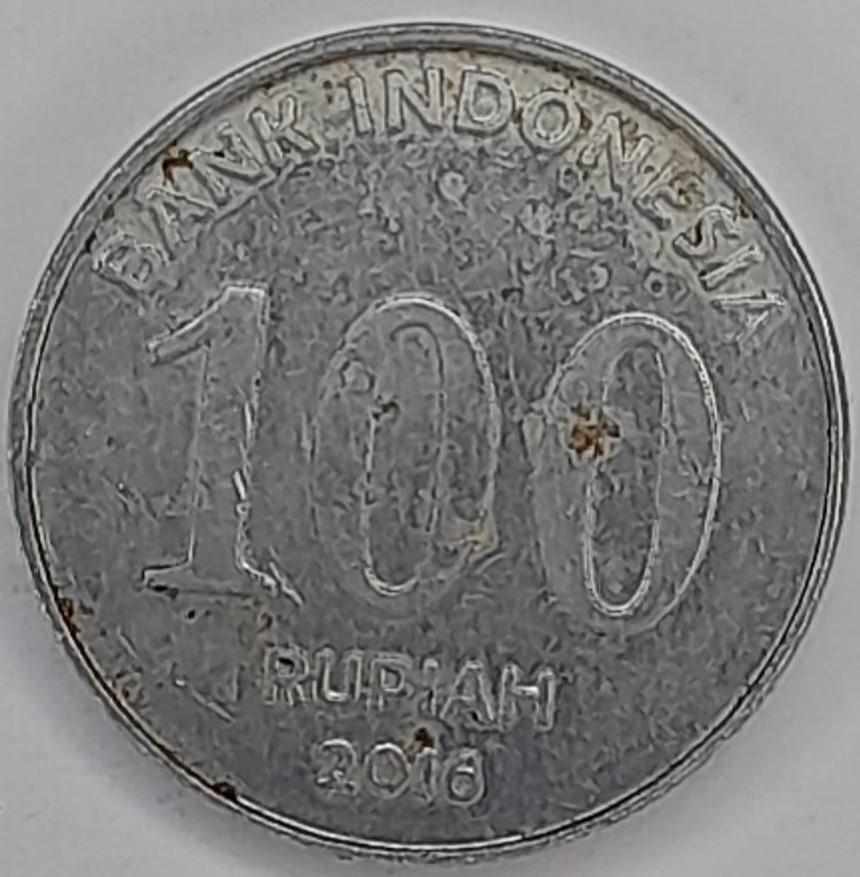coin_100_e2016: (1, 17, 855, 866)
